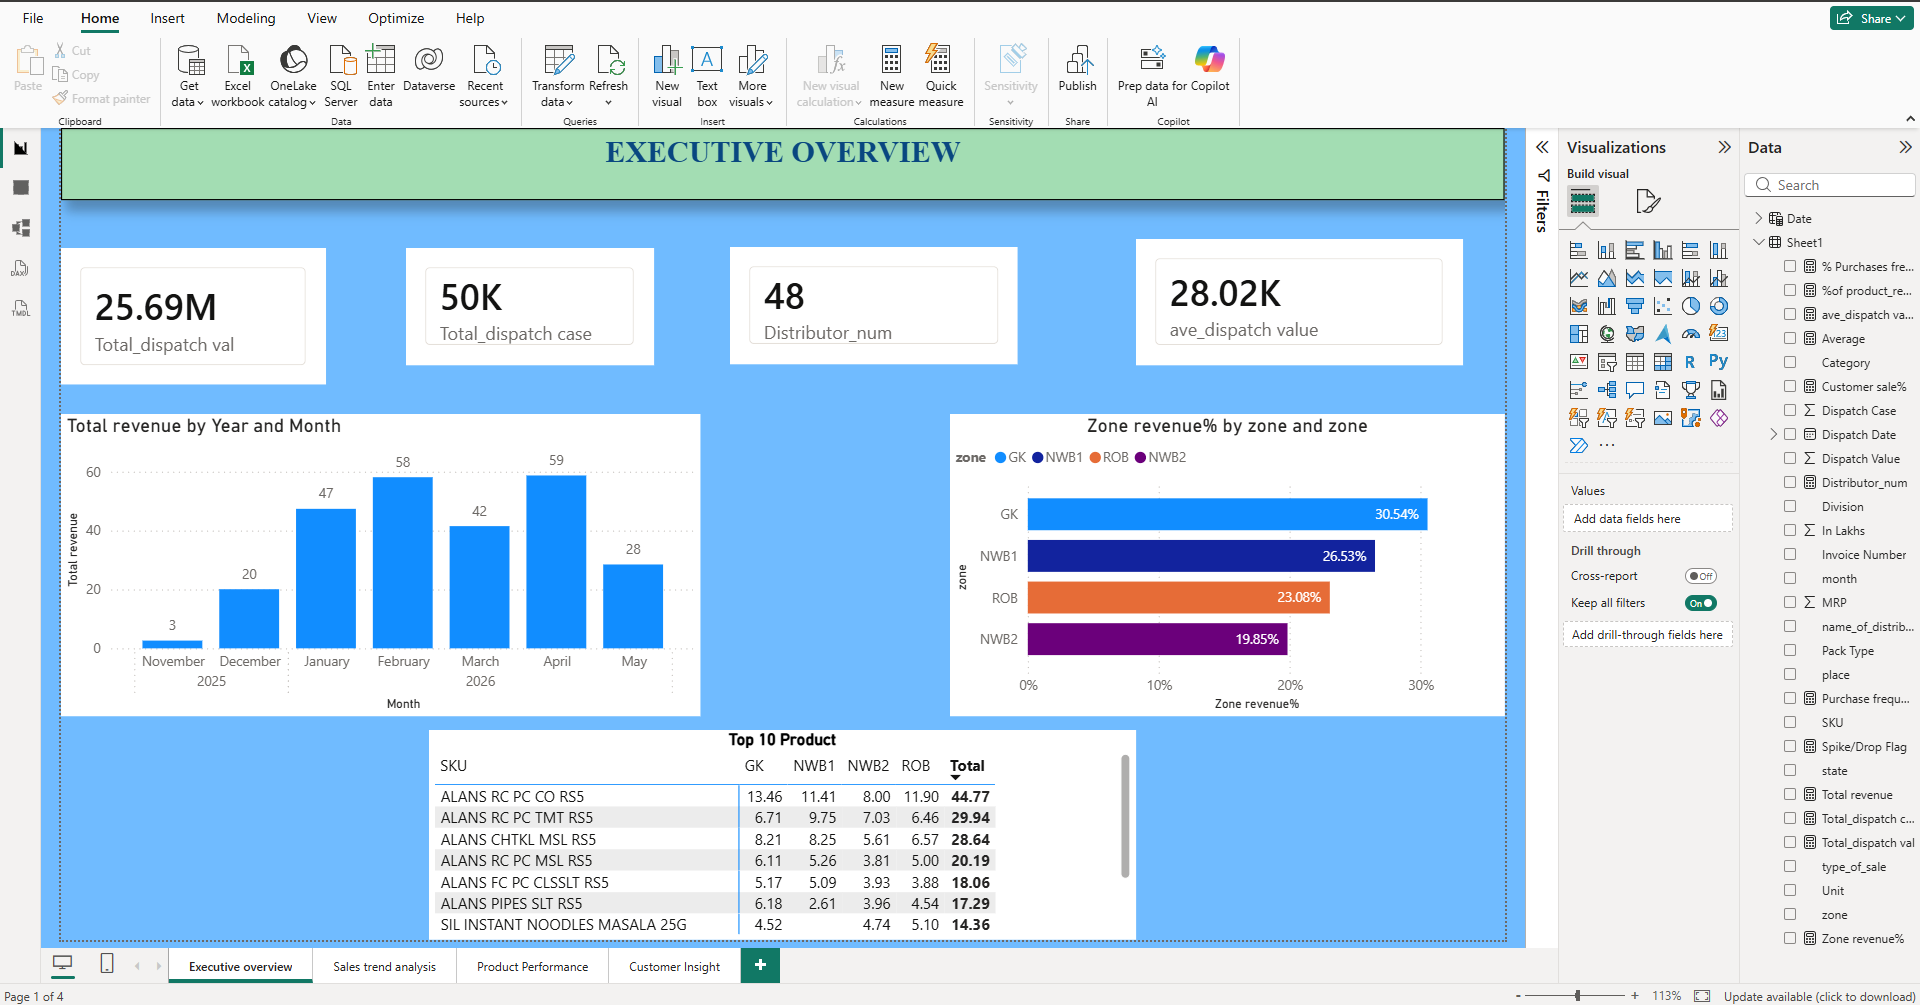

What the dashboard file says about the page in this screenshot:
{"tool":"powerbi","page":{"name":"Executive overview","canvas":[1280,720],"ordinal":0},"visuals":[{"type":"cardVisual","fields":{"Data":["Sheet1.Total_dispatch val"]},"box":[0,106.4,235,121.5],"z":0},{"type":"cardVisual","fields":{"Data":["Sheet1.Total_dispatch case"]},"box":[305.9,106.4,219.9,103.7],"z":1000},{"type":"cardVisual","fields":{"Data":["Sheet1.Total distributor_count"]},"box":[593.2,105.5,255.4,103.7],"z":2000},{"type":"cardVisual","fields":{"Data":["Sheet1.ave_dispatch value"]},"box":[953.2,98.4,290,111.7],"z":3000},{"type":"columnChart","fields":{"Category":["Date.Date.Variation.Date Hierarchy.Year","Date.Date.Variation.Date Hierarchy.Month"],"Y":["Sheet1.Total revenue"]},"box":[0,253.6,567.5,267.8],"z":4000},{"type":"barChart","fields":{"Category":["Sheet1.zone"],"Series":["Sheet1.zone"],"Y":["Sheet1.Zone revenue%"]},"box":[788.3,253.6,492.1,267.8],"z":5000},{"type":"pivotTable","title":"Top 10 Product","fields":{"Rows":["Sheet1.SKU"],"Columns":["Sheet1.zone"],"Values":["Sum(Sheet1.In Lakhs)"]},"box":[326.3,533.8,626.9,186.2],"z":6000},{"type":"textbox","box":[0,0,1280.4,63.8],"z":7000}]}

Visuals, with their boxes on the page's 1280x720 design canvas (x1, y1, x2, y2). These are canvas units, not pixel positions in the 1920x1005 screenshot, which may show the page scaled, cropped or inside an application window:
cardVisual - Sheet1.Total_dispatch val: Rect(0, 106, 235, 228)
cardVisual - Sheet1.Total_dispatch case: Rect(306, 106, 526, 210)
cardVisual - Sheet1.Total distributor_count: Rect(593, 106, 849, 209)
cardVisual - Sheet1.ave_dispatch value: Rect(953, 98, 1243, 210)
columnChart - Date.Date.Variation.Date Hierarchy.Year x Date.Date.Variation.Date Hierarchy.Month: Rect(0, 254, 568, 521)
barChart - Sheet1.zone x Sheet1.zone: Rect(788, 254, 1280, 521)
"Top 10 Product" pivotTable: Rect(326, 534, 953, 720)
textbox: Rect(0, 0, 1280, 64)
